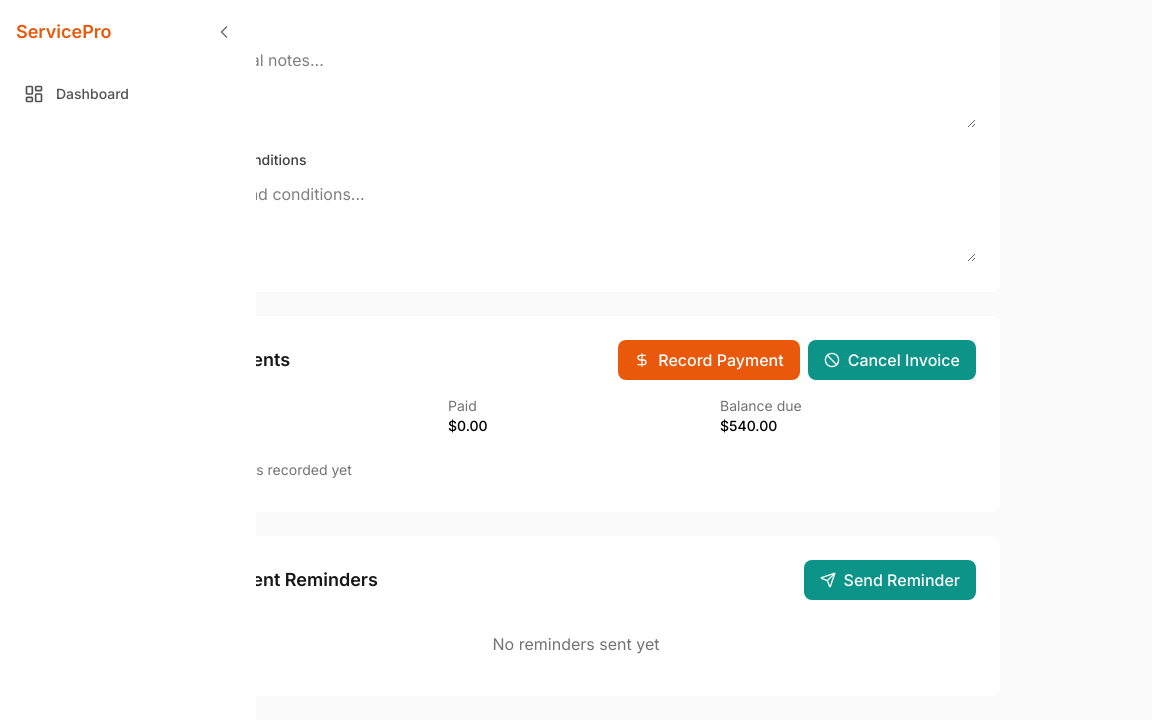
Invoice & Payment Integration › Payment Recording › tells the user to reload when the invoice changed (409)
The image size is (1152, 720).
(page scrolled)
Click the button "Record Payment": (709, 360) [618,340,800,380]
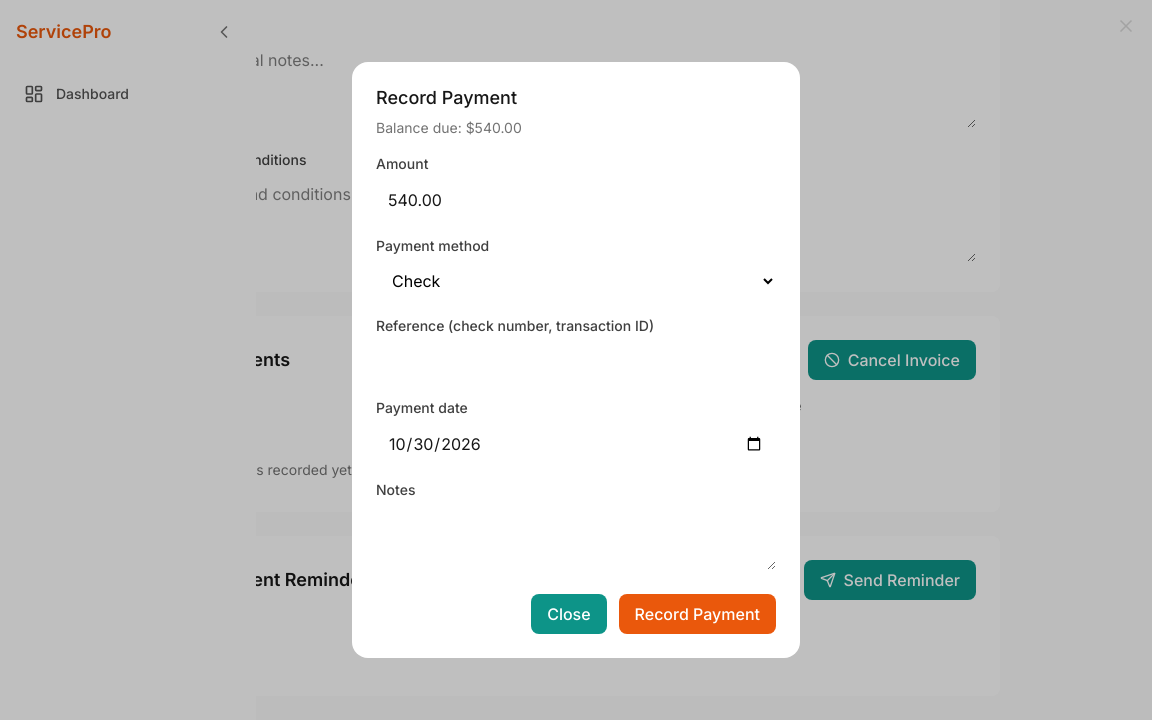
Click the button "Record Payment": (697, 614) [619,594,776,634]
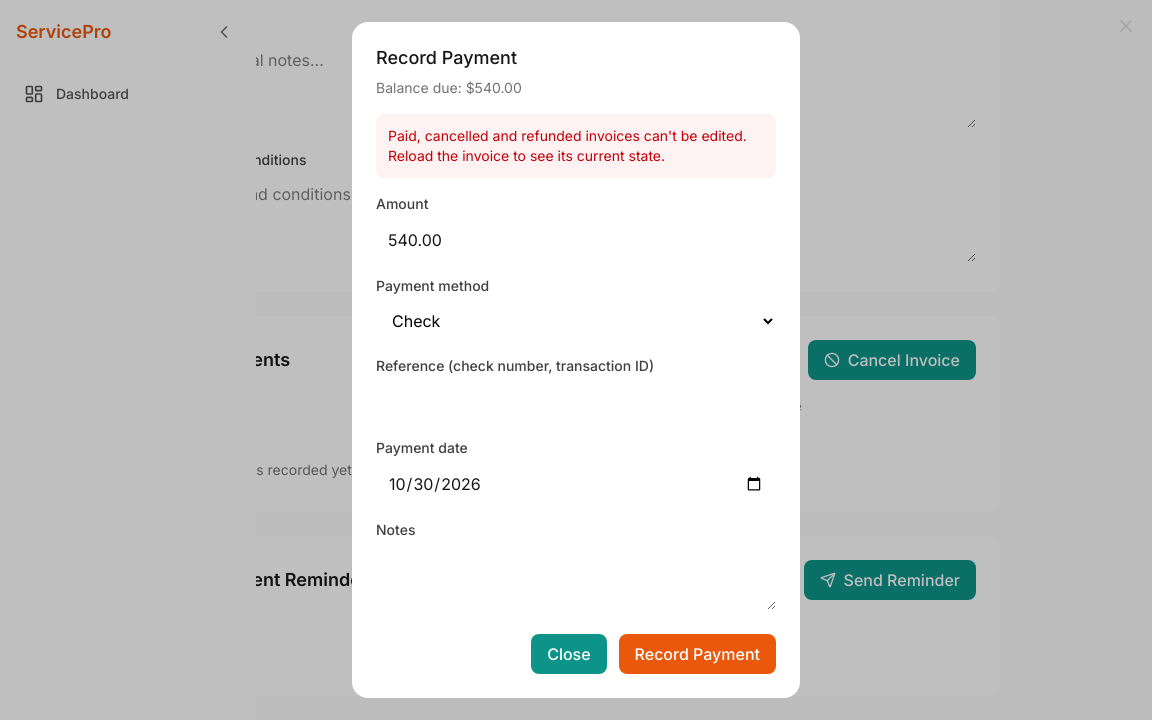
Expected: the text "Reload the invoice" is shown, [388,127,747,164]
